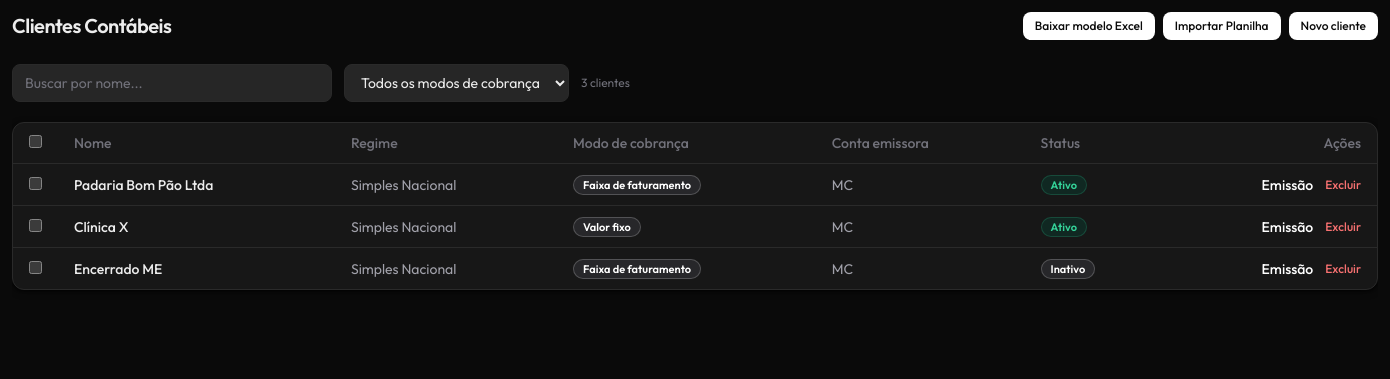
Test: ClientesContabilidadeManager › AC 2: a barra de seleção explica a diferença entre selecionados e calculáveis
This screenshot has width=1390, height=379.
Expected: the text "Encerrado ME" is shown, top-left (58, 248), bottom-right (335, 289)
Click the checkbox named "Selecionar todos os clientes": (36, 142) top-left (29, 135), bottom-right (42, 148)
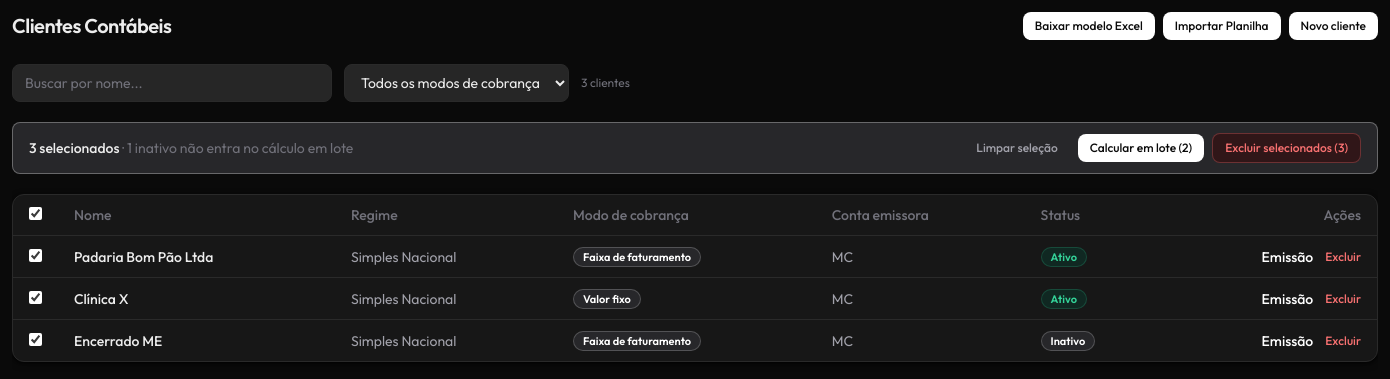
Expected: the button "Calcular em lote (2)" is shown, top-left (1078, 134), bottom-right (1204, 162)
